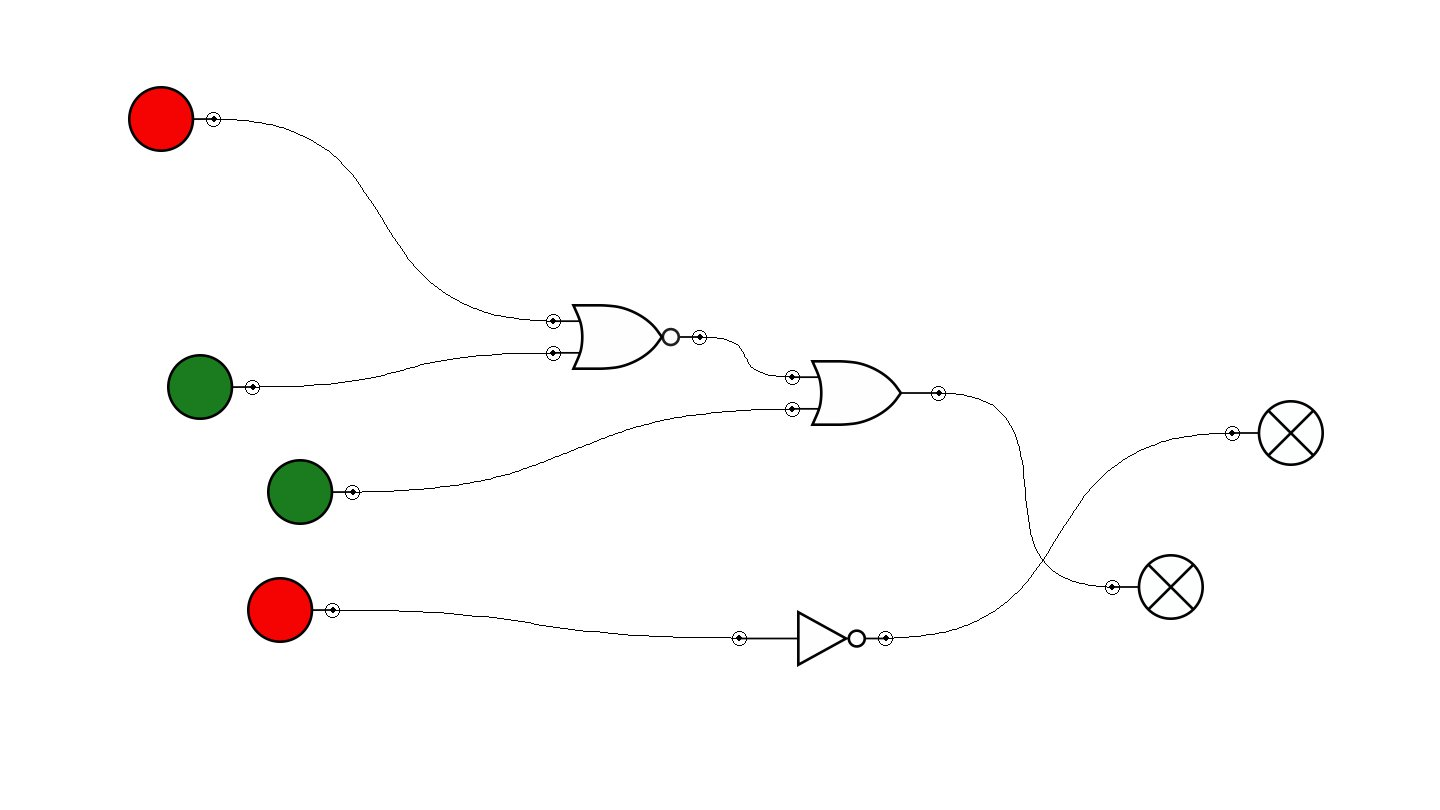bulb: (1225, 400, 1324, 466), (1105, 554, 1204, 620)
nor: (546, 304, 707, 370)
not: (732, 610, 893, 667)
or: (785, 360, 946, 426)
switch_False: (247, 577, 340, 643), (128, 86, 221, 152)
switch_True: (167, 354, 260, 420), (267, 459, 360, 525)
